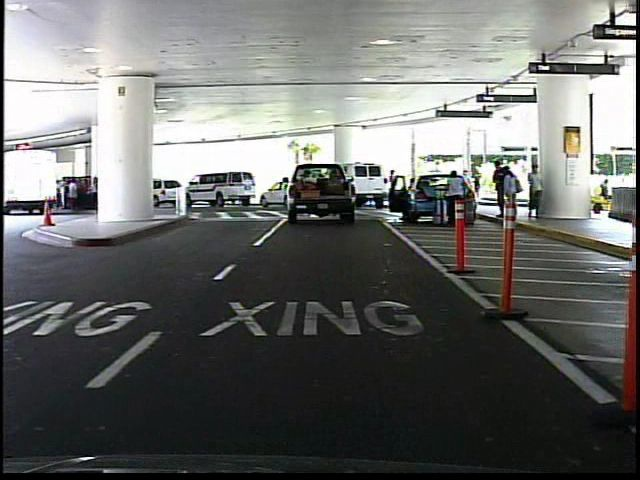person: (440, 163, 467, 228), (523, 159, 545, 223), (385, 165, 403, 211)
